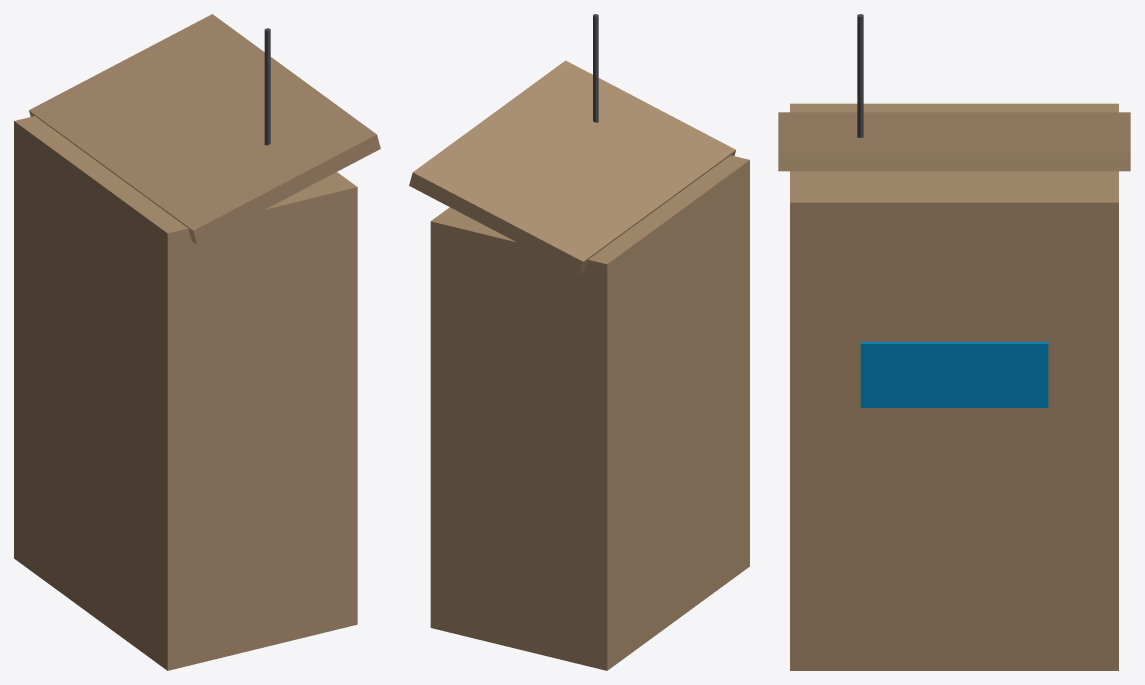
The model's file is SM_Prop_Lectern.glb.
3 views of the same model, side by side, from view 1: azimuth 30°, elevation 25°; view 2: azimuth 150°, elevation 25°; view 3: azimuth 270°, elevation 25° (orthographic). The views are drawn at different scales.
Visible parts, largest first — view 1: SM_Prop_Lectern; view 2: SM_Prop_Lectern; view 3: SM_Prop_Lectern.
Boxes of the visible parts, left/top/right/bottom form: SM_Prop_Lectern: left=14, top=14, right=380, bottom=670; SM_Prop_Lectern: left=409, top=14, right=749, bottom=670; SM_Prop_Lectern: left=778, top=14, right=1130, bottom=670.
Bounding box in the file's own units: 0.5467 × 1.47 × 0.75.
